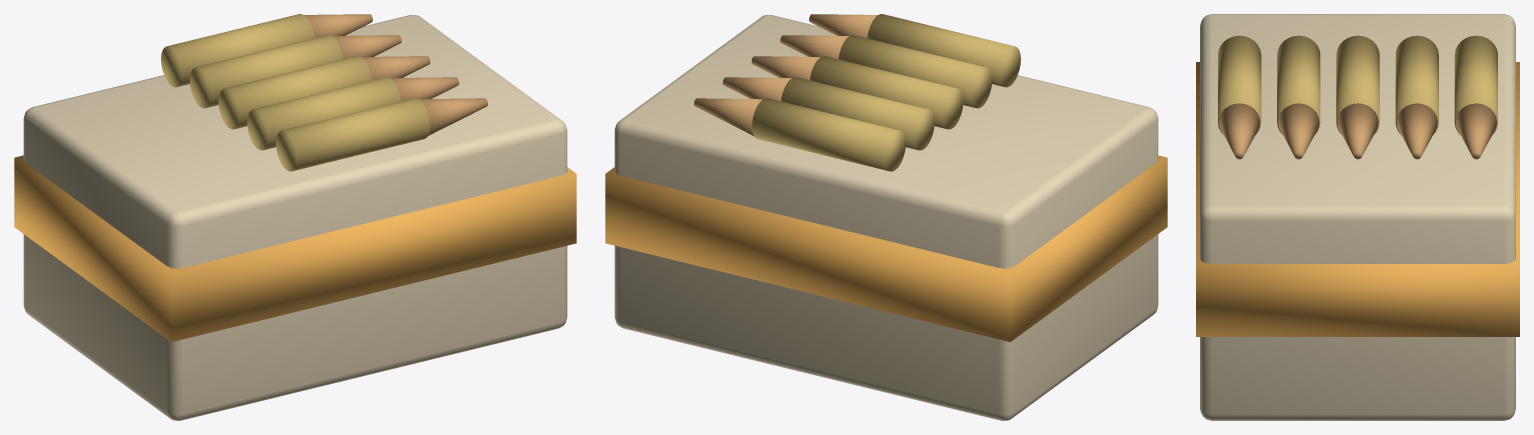
Rendered from SM_Ammo_762x39.glb.
The picture shows the model from 3 angles, left to right: view 1: azimuth 30°, elevation 25°; view 2: azimuth 150°, elevation 25°; view 3: azimuth 270°, elevation 25°; orthographic projection. The views are drawn at different scales.
Parts seen in each view (by area): view 1: SM_Ammo_762x39; view 2: SM_Ammo_762x39; view 3: SM_Ammo_762x39.
Part boxes in pixels (<box>): SM_Ammo_762x39: <box>14,14,576,420</box>; SM_Ammo_762x39: <box>605,14,1167,420</box>; SM_Ammo_762x39: <box>1196,14,1519,420</box>.
Size of the model in its own units: 0.122 by 0.0715 by 0.082.
